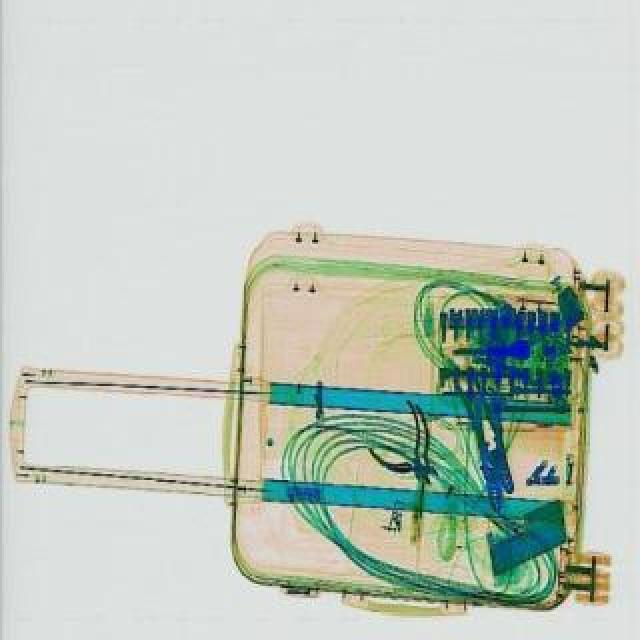wrench: (354, 396, 462, 496), (362, 404, 466, 496), (448, 370, 524, 494), (472, 394, 512, 510)
